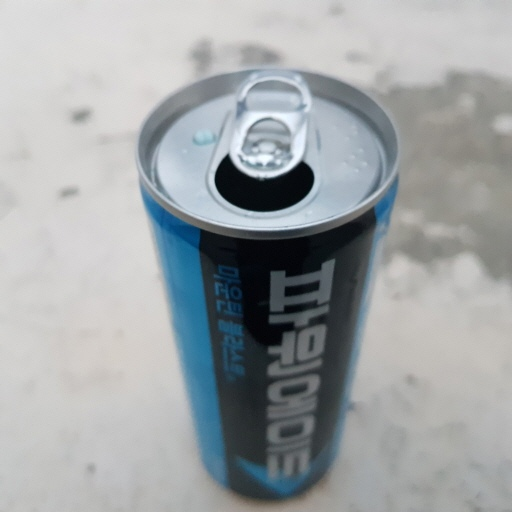Metal_0: (131, 66, 404, 500)
